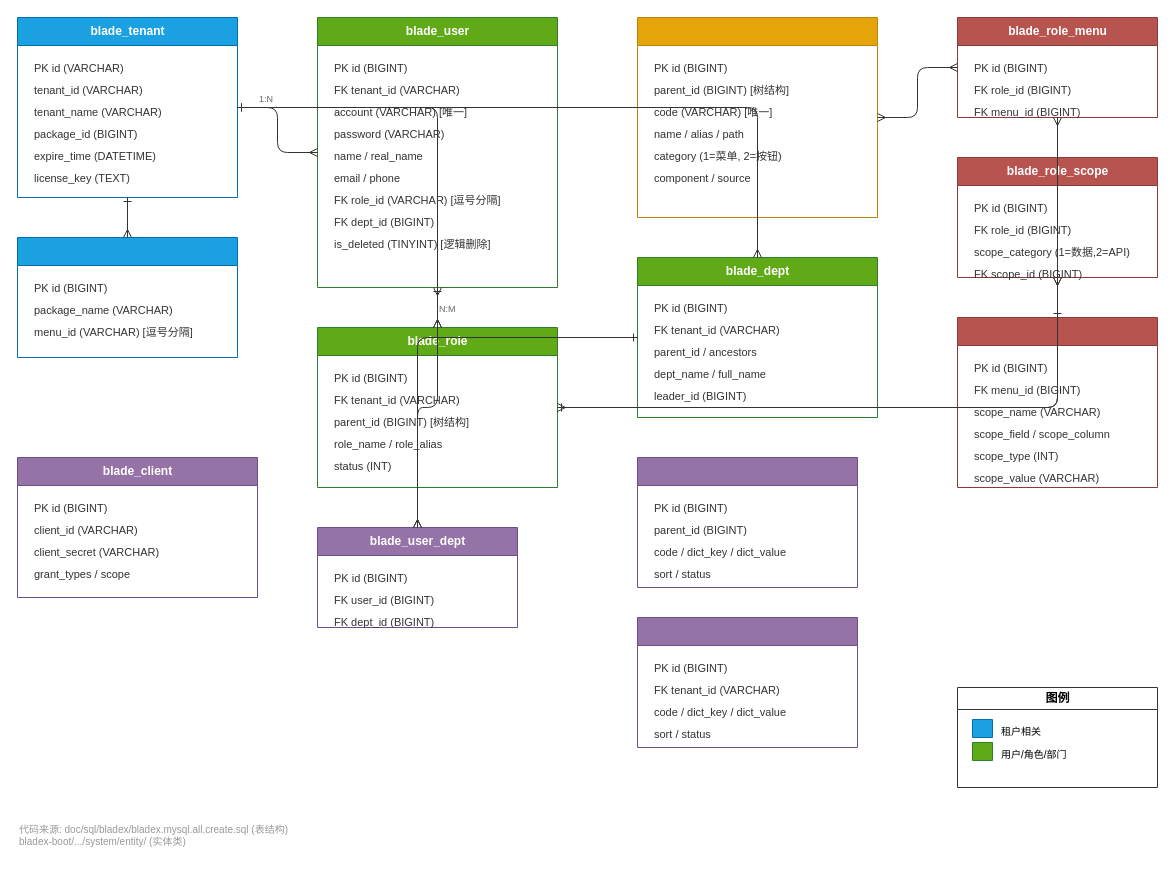
Some shapes in this 1175 by 875 pixel diagram are drawn without their labels. The box of each missing label's shape, as (x1, y1, x2, y2) in pixels:
blade_dict (系统字典): (636, 456, 858, 588)
blade_dict_biz (业务字典): (636, 616, 858, 748)
blade_menu: (636, 16, 878, 218)
blade_scope_data: (956, 316, 1158, 488)
blade_tenant_package: (16, 236, 238, 358)
